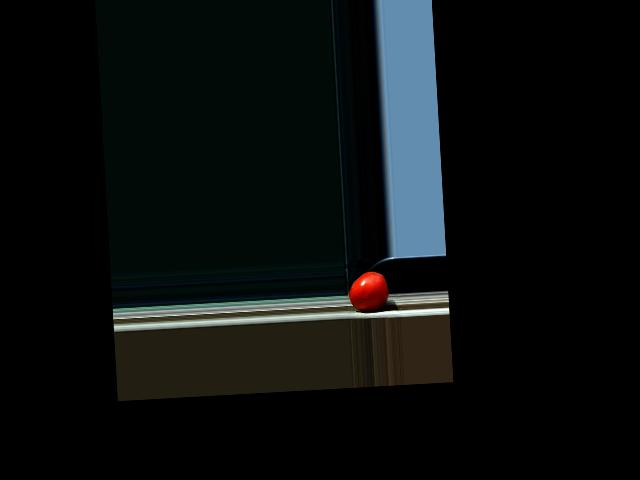tomato: (348, 270, 389, 311)
